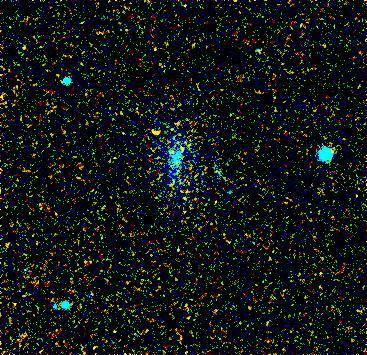star: (141, 118, 171, 148)
